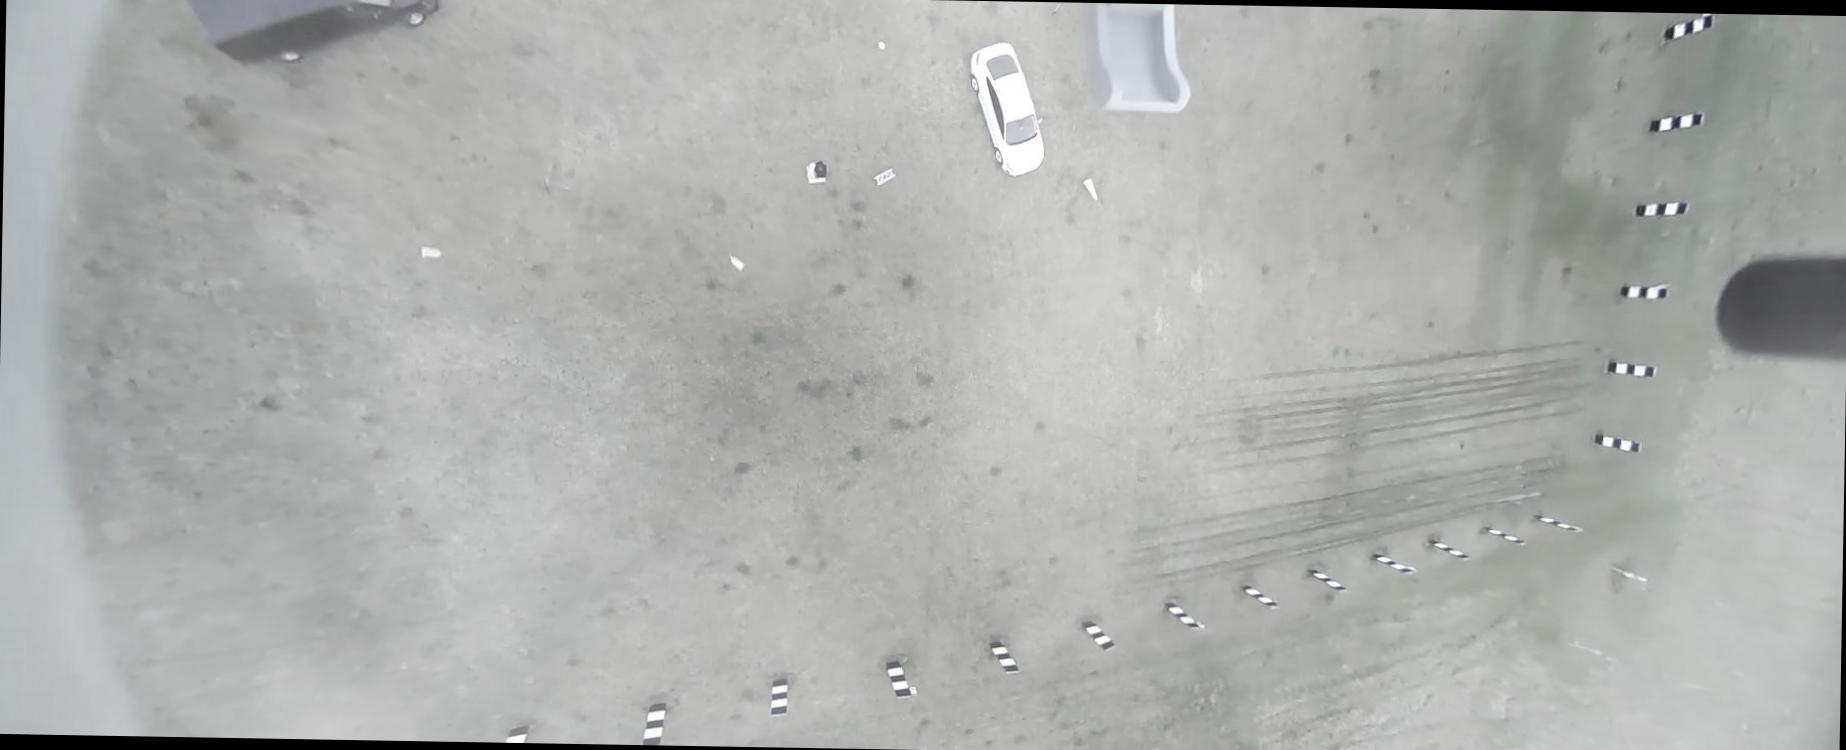vehicle: (181, 0, 440, 69), (968, 41, 1047, 177)
